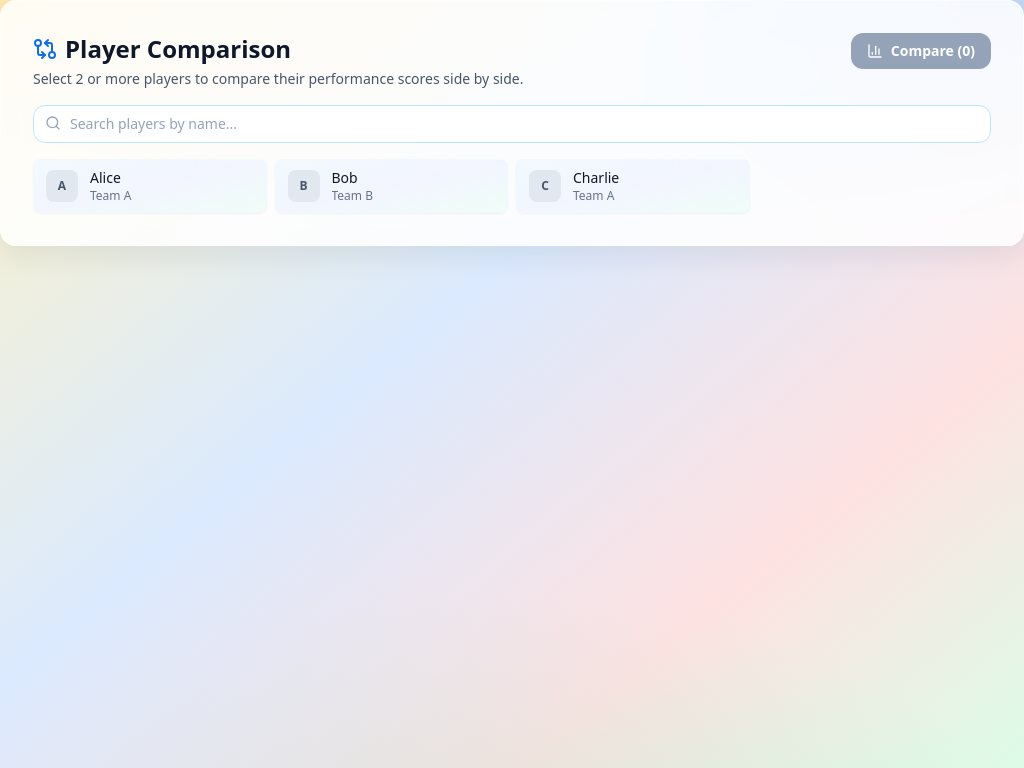
Test: PlayerComparison › shows empty state when comparison has no items
expect the text "Alice" is shown: met, box x1=90 y1=168 x2=121 y2=187
Click the button "A Alice Team A".
click(150, 186)  # box x1=33 y1=159 x2=266 y2=213
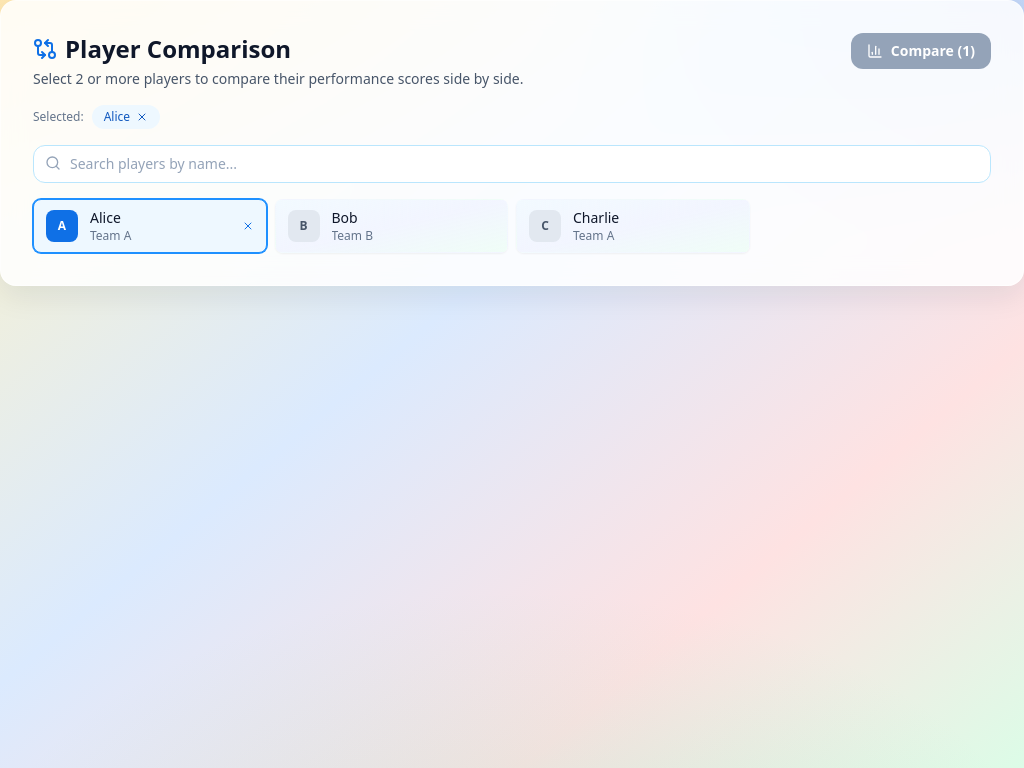
Click the button "B Bob Team B".
click(391, 226)  # box x1=274 y1=199 x2=508 y2=253
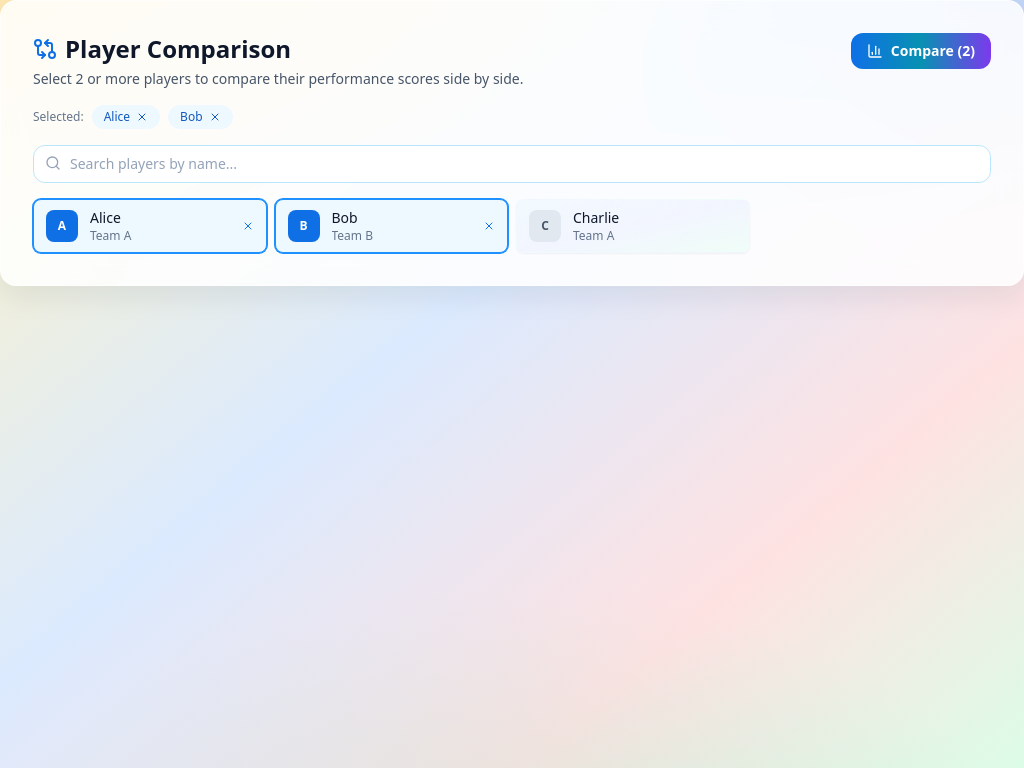
Click the button "Compare (2)".
click(921, 51)  # box x1=851 y1=33 x2=991 y2=69
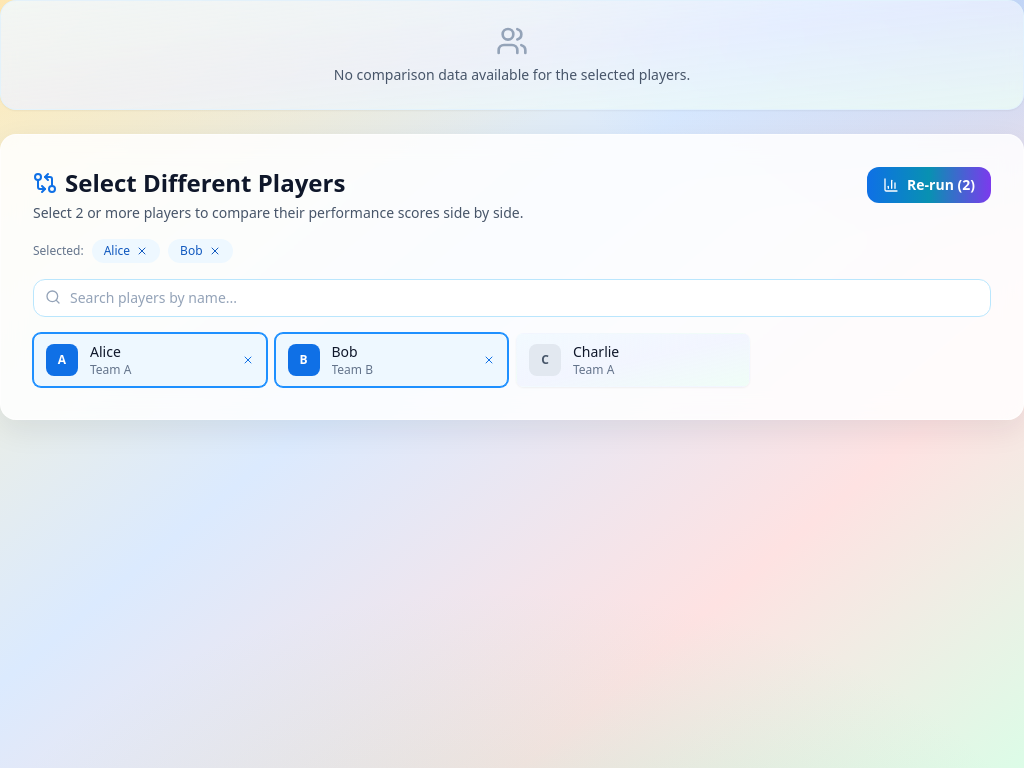
expect the text "No comparison data available for the selected players." is shown: met, box x1=334 y1=65 x2=690 y2=84
